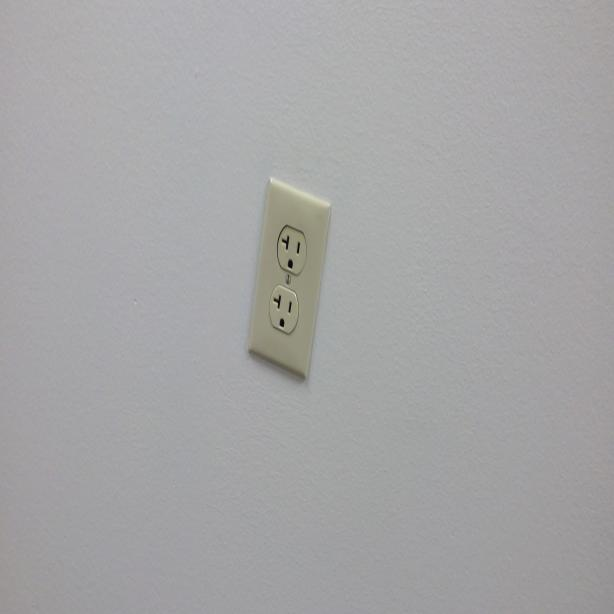typeb: (266, 288, 299, 334), (276, 226, 307, 272)
